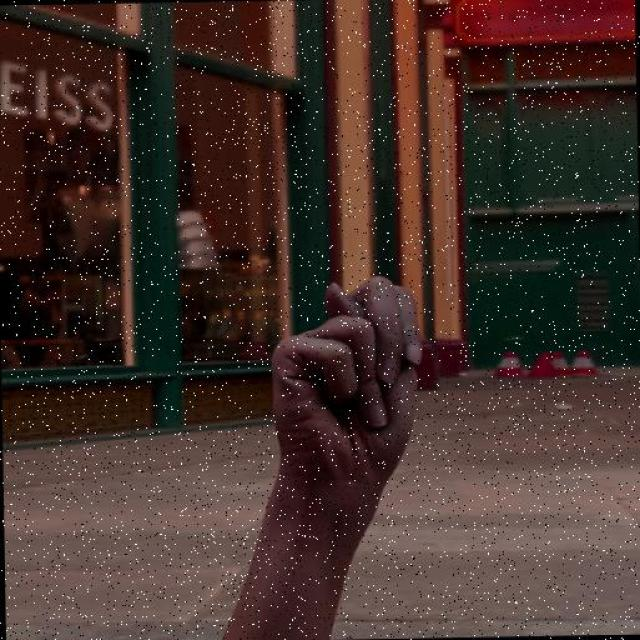N: (262, 272, 428, 498)
